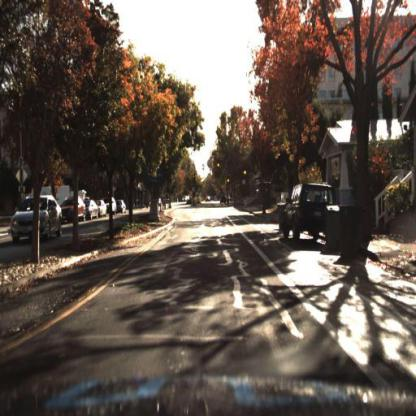car: (282, 183, 333, 243), (12, 197, 63, 242), (62, 198, 85, 223), (83, 198, 101, 222), (107, 195, 118, 218), (97, 199, 109, 220), (88, 201, 100, 219), (109, 200, 117, 219), (120, 200, 128, 216), (101, 199, 106, 220)
trafficLight: (215, 158, 223, 174)
trafficLight-Red: (226, 174, 232, 190), (244, 166, 249, 184)
trafficLight-RedLeft: (191, 174, 199, 190)
trafficLight-Yellow: (241, 168, 249, 180), (226, 178, 232, 186)
truck: (16, 183, 73, 215), (27, 180, 72, 204)
